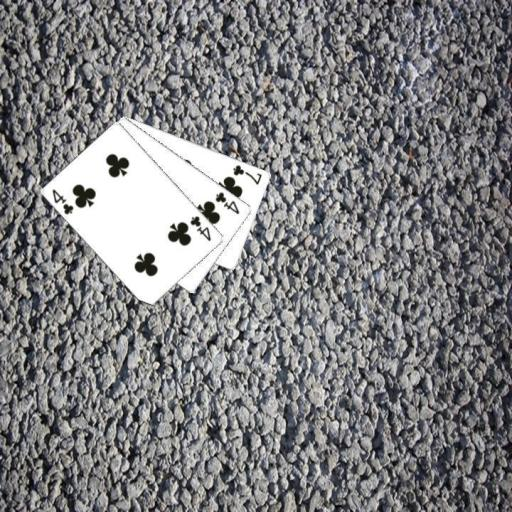card-corner: (230, 162, 264, 186), (212, 188, 241, 216), (187, 212, 213, 242), (49, 186, 75, 216)
